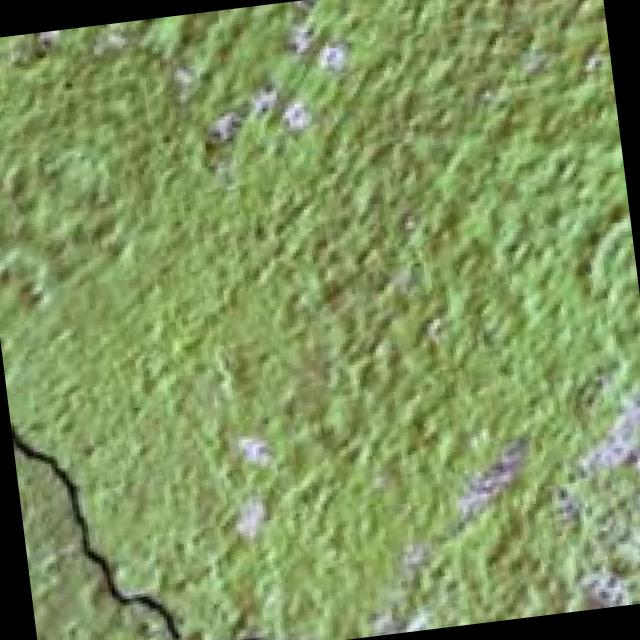crack: (11, 371, 333, 640)
